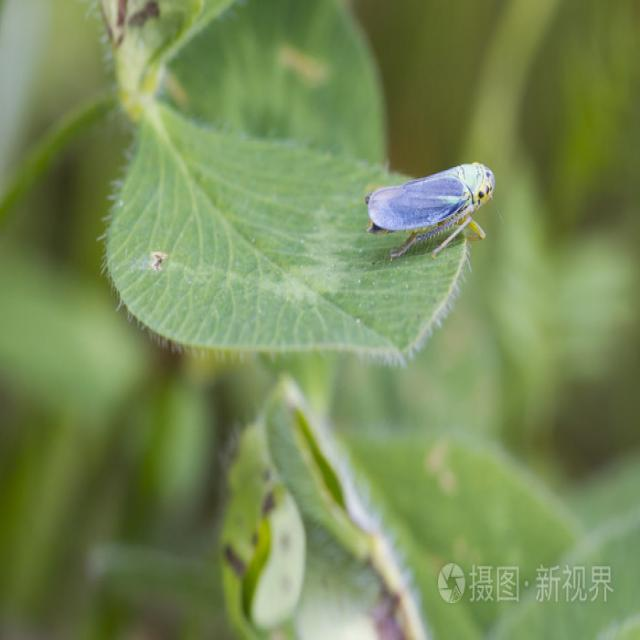Yechan: (362, 157, 501, 249)
